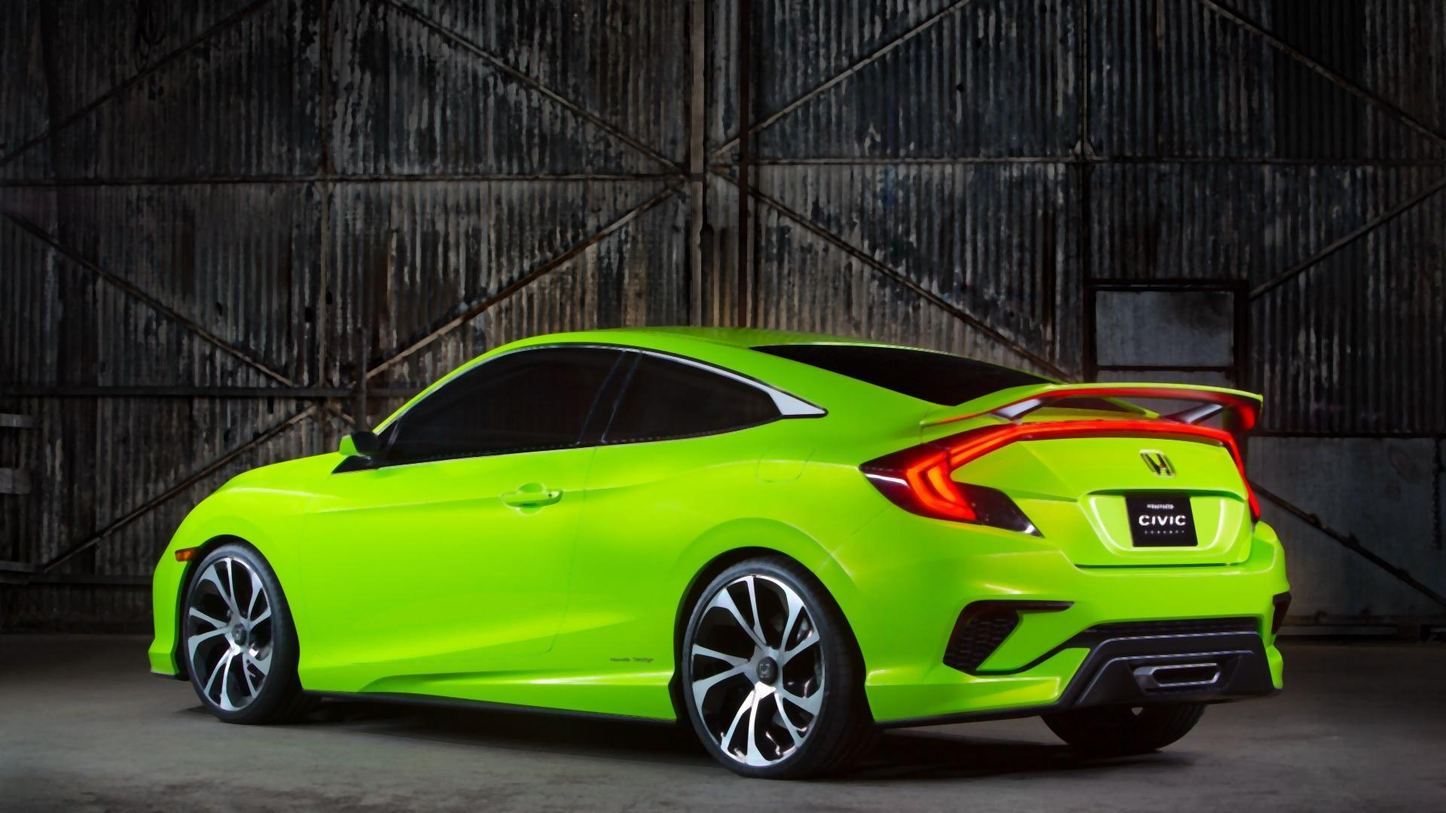Car hood: (945, 407, 1266, 571), (178, 444, 330, 523)
Fender - -F-L-: (252, 487, 356, 706)
Fender - -R-L-: (657, 409, 896, 738)
Front bumper: (140, 538, 204, 690)
Passenger-s door - -F-L-: (333, 325, 641, 690)
Rear bumper: (853, 517, 1306, 716)
Rear light - -L-: (850, 416, 1050, 544)
Rear light - -R-: (1202, 431, 1291, 545)
Side bumper - -L-: (288, 648, 697, 735)
Side mirror - -L-: (326, 416, 396, 478)
